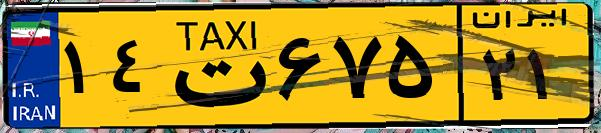1: (57, 26, 110, 100), (525, 38, 570, 115)
2: (475, 38, 525, 113)
4: (110, 28, 158, 98)
5: (385, 28, 445, 110)
6: (270, 28, 330, 110)
7: (330, 28, 385, 110)
ت: (158, 12, 270, 120)
